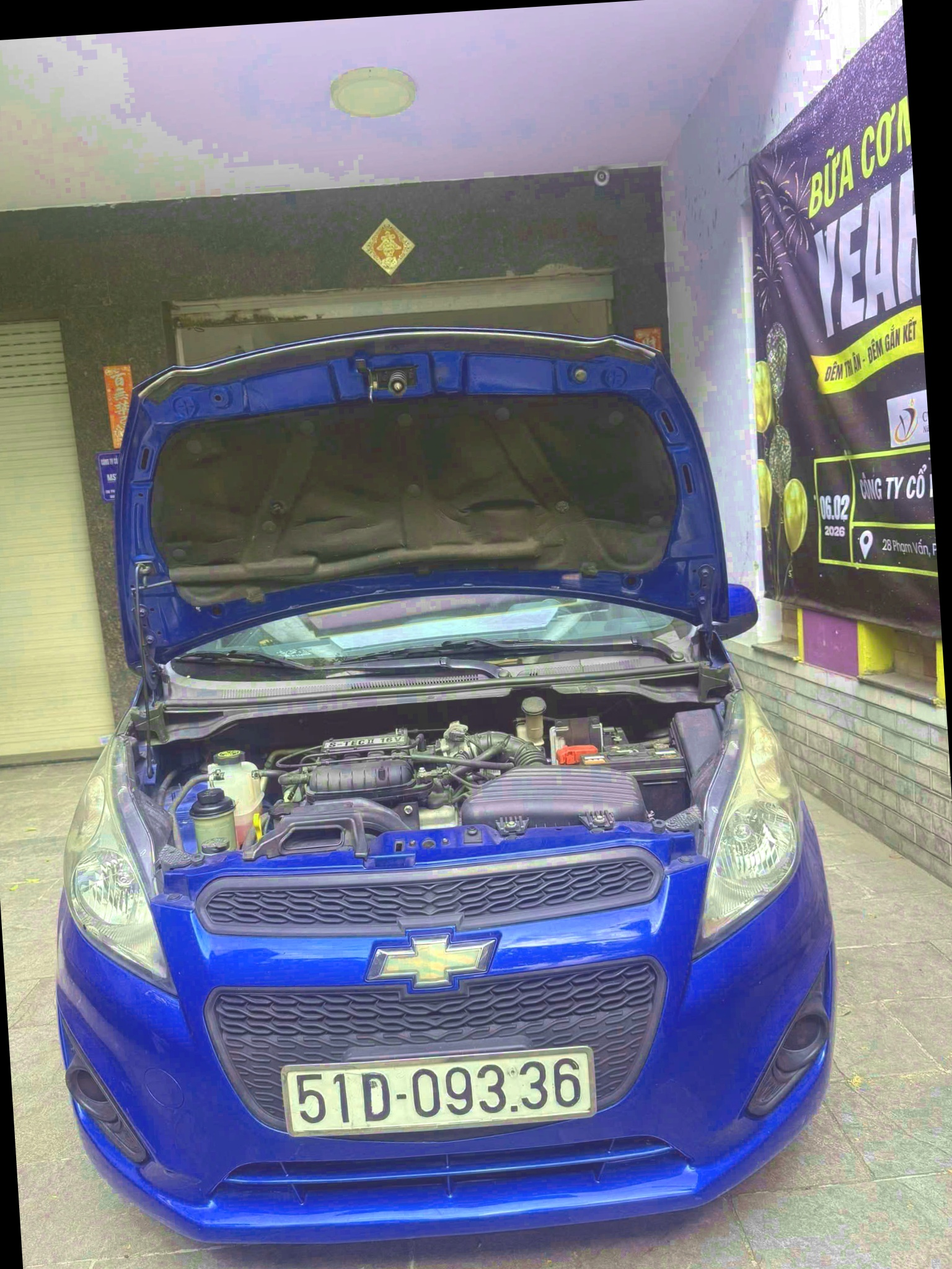Bien-so: (289, 1051, 590, 1132)
